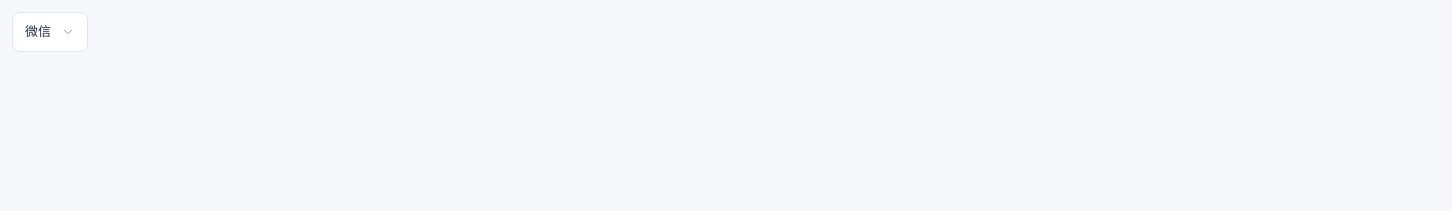
custom select › commits with Tab and dismisses on an outside pointer
The image size is (1452, 211).
Press End in the dropdown labelled "微信", box [12, 12, 88, 52]
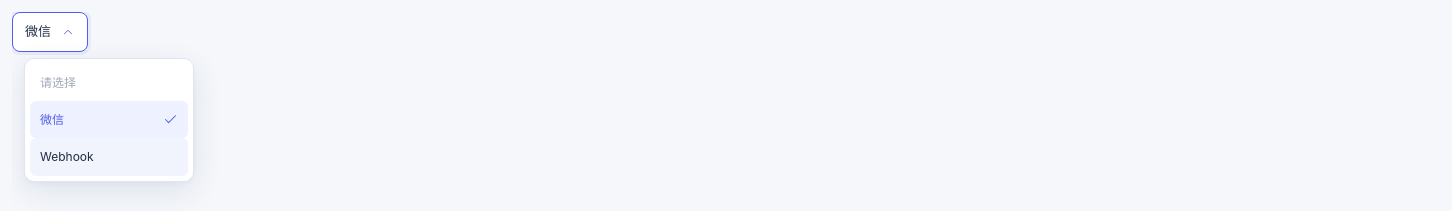
Press Tab in the dropdown labelled "微信", box [12, 12, 88, 52]
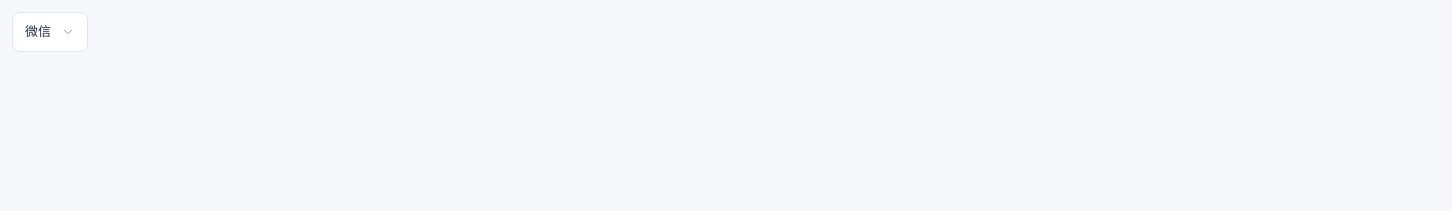
Click the dropdown labelled "微信": point(50, 32) [12, 12, 88, 52]
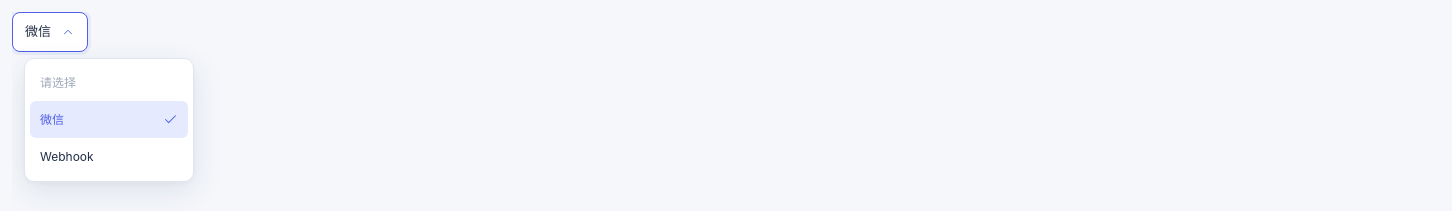
Press the mouse on the element showing "微信 请选择 微信 Webhook": point(732, 32) [12, 12, 1451, 52]
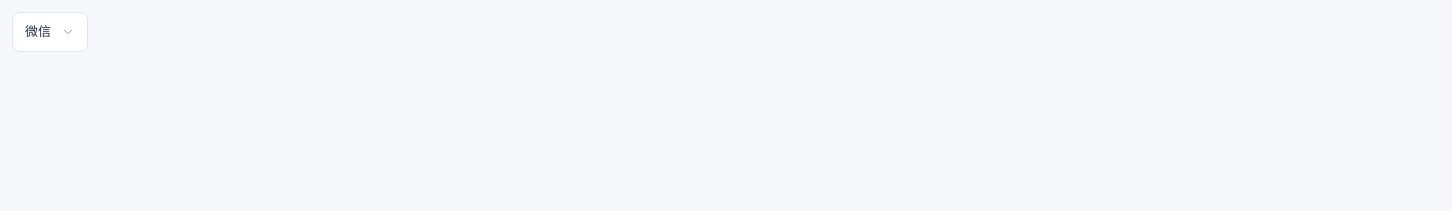
Check: the dropdown labelled "微信" is collapsed, box [12, 12, 88, 52]
